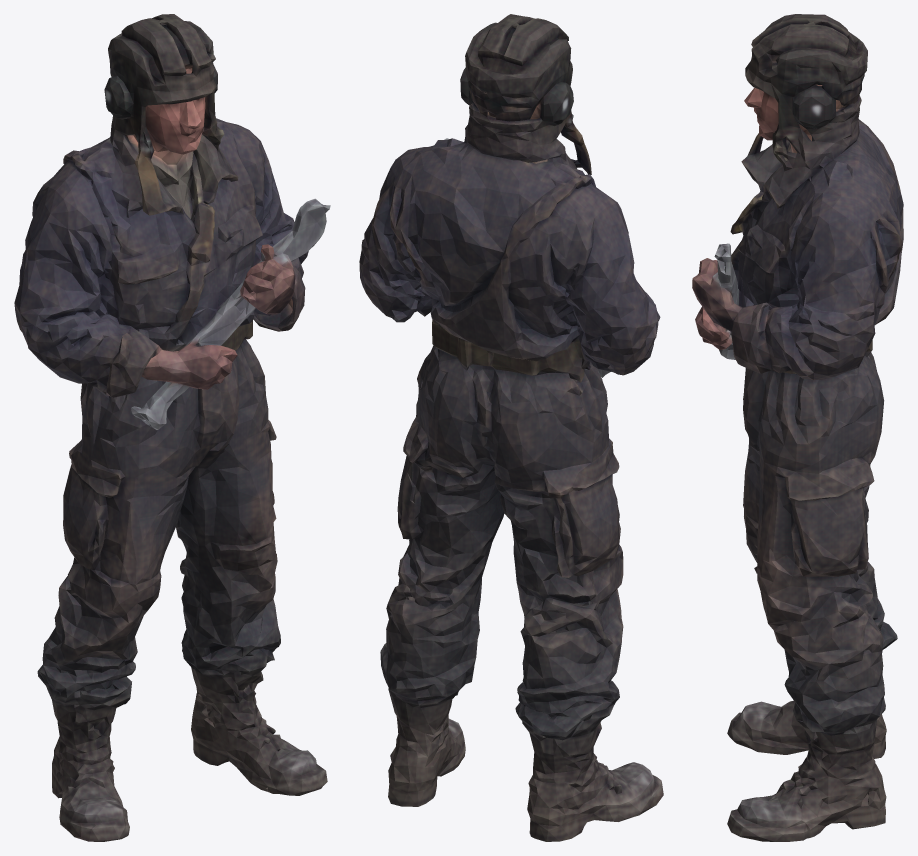
Rendered from crew_su_driver.obj.
The picture shows the model from 3 angles, left to right: view 1: azimuth 30°, elevation 25°; view 2: azimuth 150°, elevation 25°; view 3: azimuth 270°, elevation 25°; orthographic projection.
Parts seen in each view (by area): view 1: crew_su_driver; view 2: crew_su_driver; view 3: crew_su_driver.
Boxes of the visible parts, bbox=[...] form: crew_su_driver: bbox=[14, 14, 330, 841]; crew_su_driver: bbox=[359, 14, 663, 841]; crew_su_driver: bbox=[692, 14, 903, 841].
Bounding box in the file's own units: 0.678 × 1.8 × 0.4539.
1 material, 1 textured.
